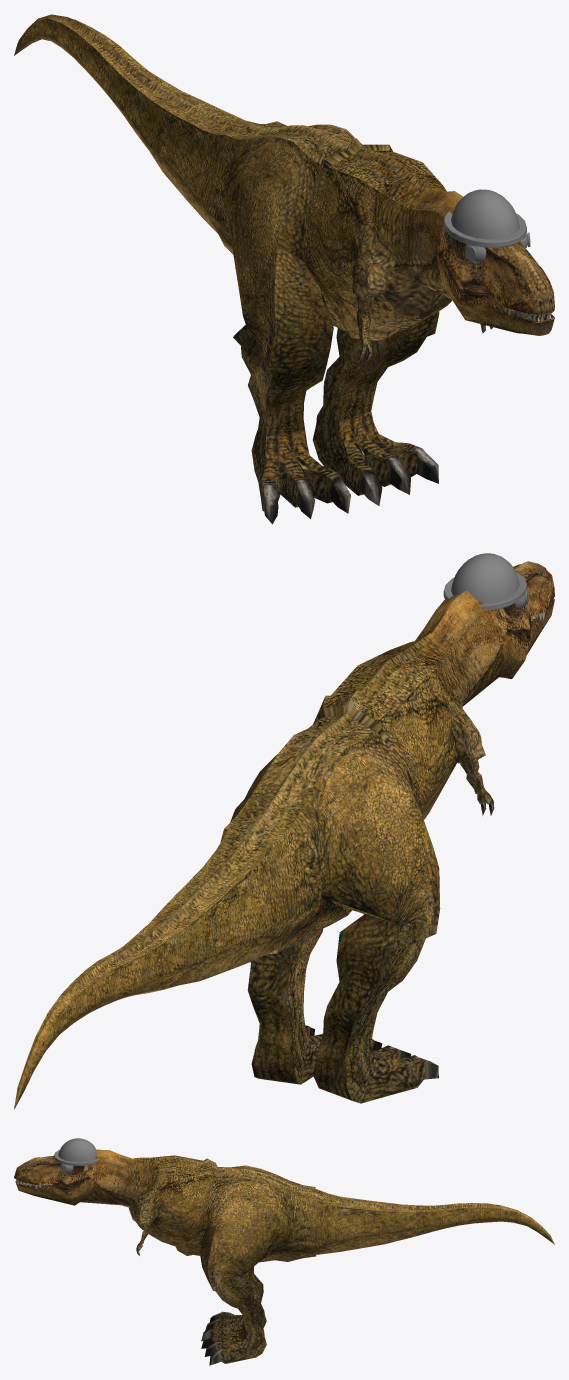
Rendered from SM_DummyRex.obj.
3 views of the same model, one above another, from view 1: azimuth 30°, elevation 25°; view 2: azimuth 150°, elevation 25°; view 3: azimuth 270°, elevation 25° (orthographic). The views are drawn at different scales.
Visible parts, largest first — view 1: SM_DummyRex; view 2: SM_DummyRex; view 3: SM_DummyRex.
Boxes of the visible parts, x1,y1,x2,y2 form: SM_DummyRex: [14, 14, 554, 524]; SM_DummyRex: [14, 553, 554, 1109]; SM_DummyRex: [14, 1138, 554, 1365].
Size of the model in its own units: 1179 by 2653 by 6328.
